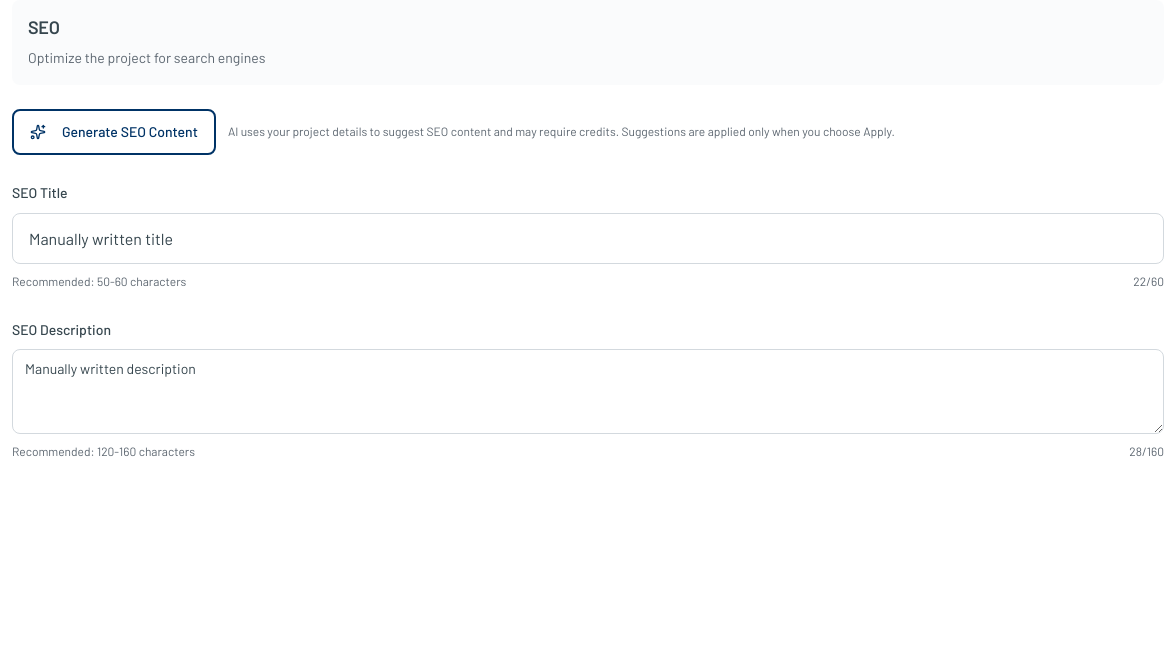
Test: reviewing AI SEO suggestions › stages valid suggestions and changes metadata only after explicit Apply
The image size is (1176, 656).
Click the button "Generate SEO Content": (114, 132) [12,109,216,155]
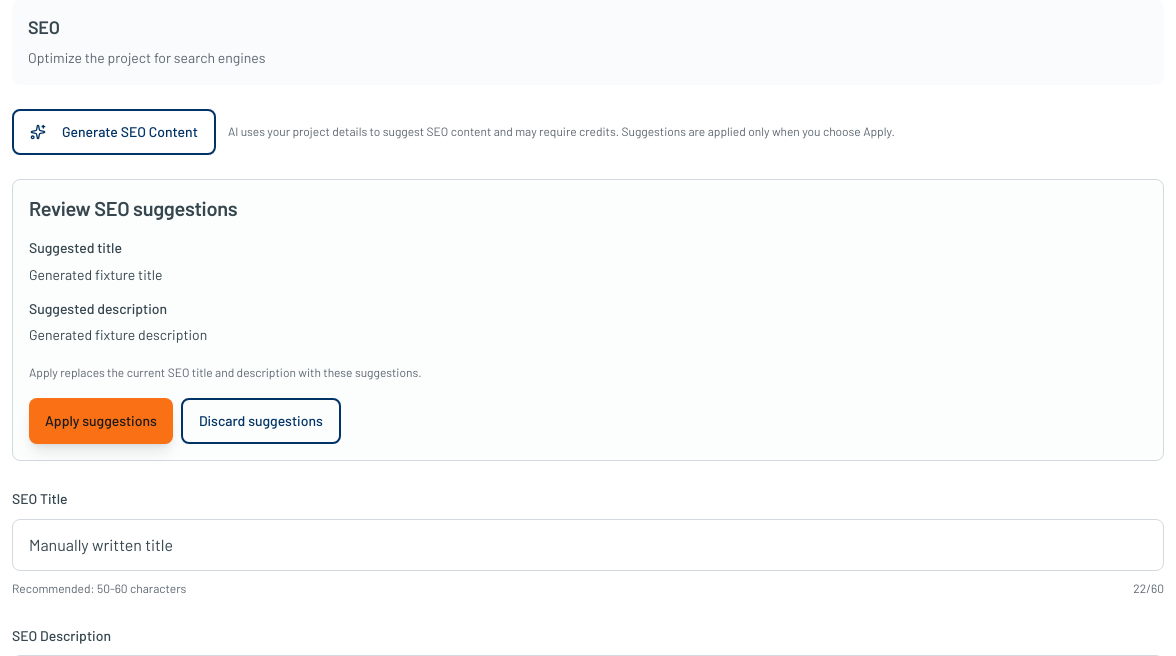
Check: the field labelled "SEO Title" holds "Manually written title", box [12,519,1164,571]
Check: the element named "Generated SEO suggestions" is shown, box [12,179,1164,461]
Click the button "Apply suggestions": (101, 421) [29,398,173,444]
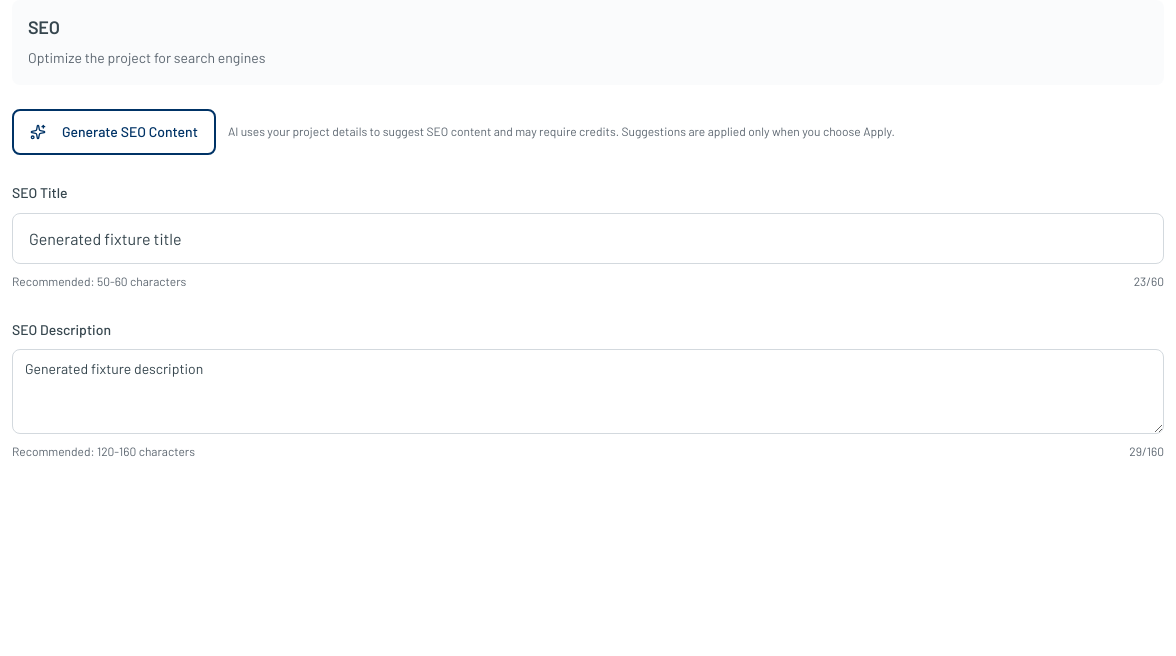
Check: the field labelled "SEO Title" holds "Generated fixture title", box [12,213,1164,264]
